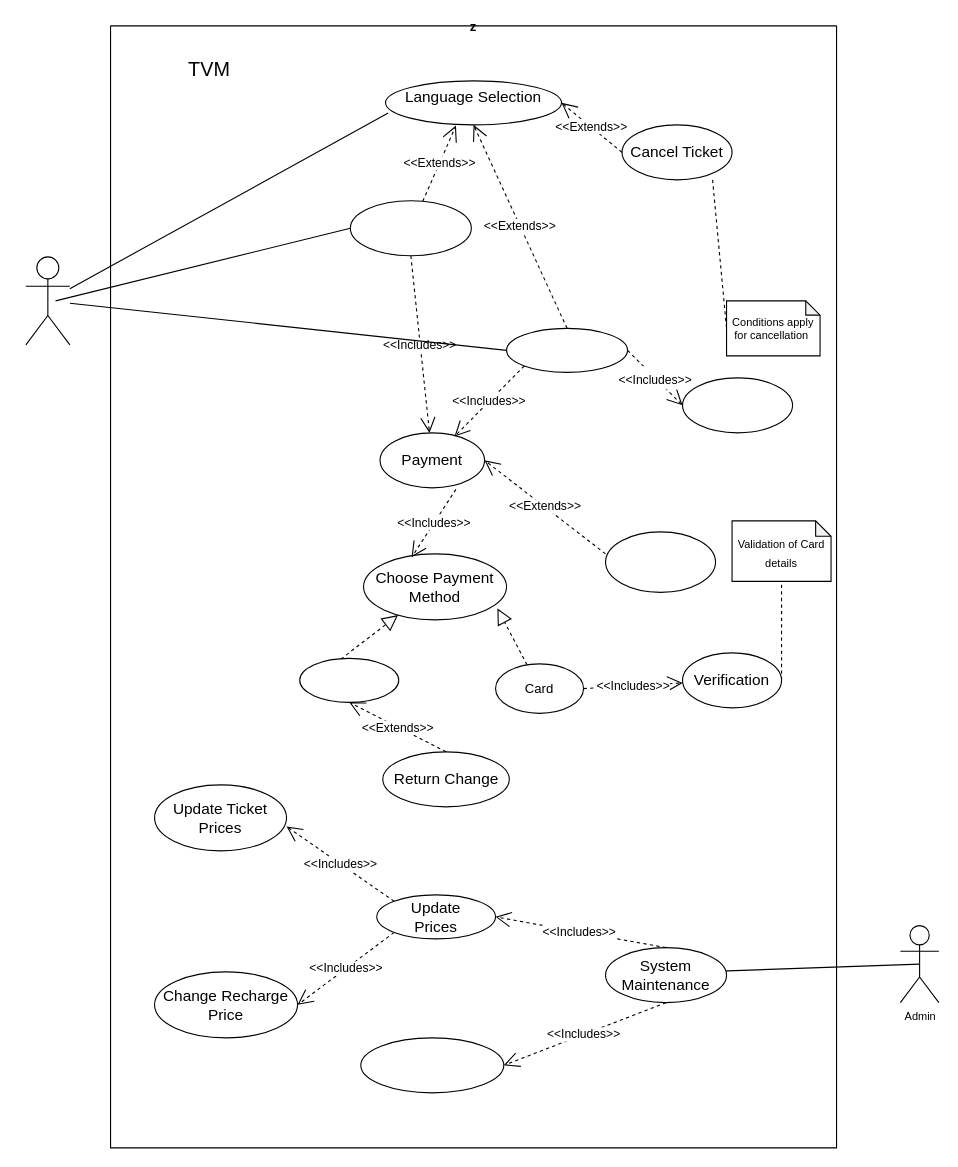
Image size: 958x1167. Some labels were removed from this diagram. Each missing label, with the centre of its shape:
"Add Denominations" belongs at [432,1065].
"Cash" belongs at [349,679].
"Customer" belongs at [47,300].
"Payment Slip" belongs at [660,561].
"Print Ticket" belongs at [737,405].
"Purchase Ticket" belongs at [566,349].
"Recharge Card" belongs at [410,228].
